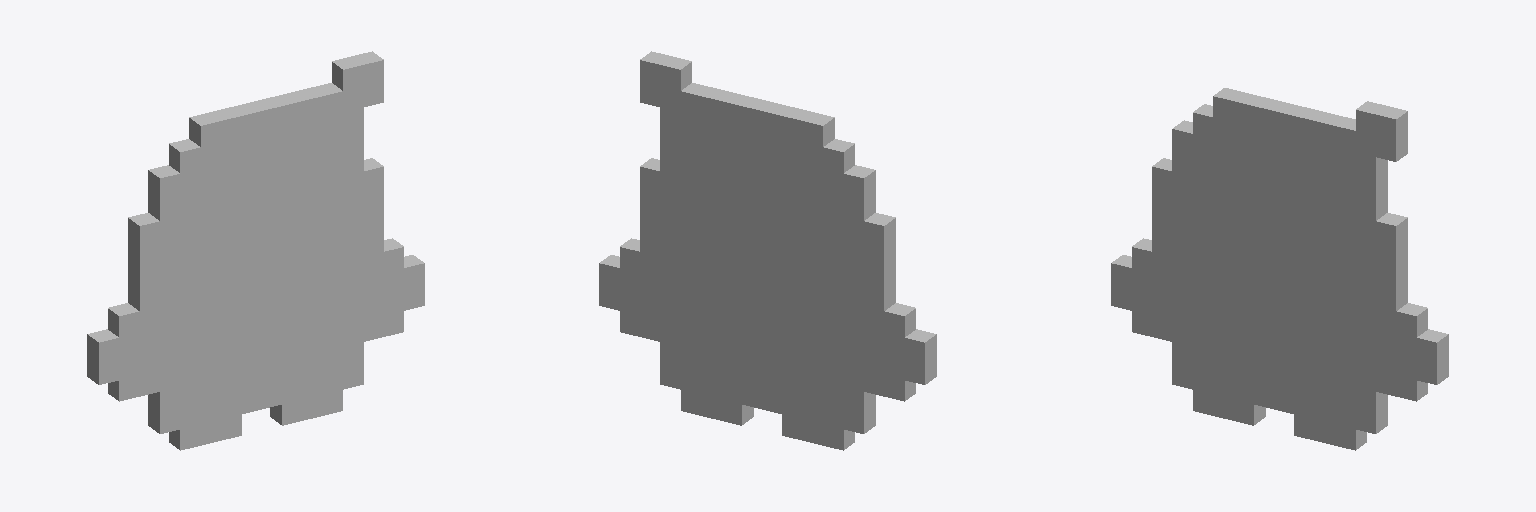
Rendered from girl walk 2.obj.
The picture shows the model from 3 angles: view 1: azimuth 30°, elevation 25°; view 2: azimuth 150°, elevation 25°; view 3: azimuth 330°, elevation 25°; orthographic projection.
Parts seen in each view (by area): view 1: object 1; view 2: object 1; view 3: object 1.
Part boxes in pixels (x1,y1,x2,y2): object 1: (87, 51, 424, 450); object 1: (599, 51, 936, 450); object 1: (1111, 88, 1448, 450).
Size of the model in its own units: 1.6 by 1.6 by 0.1.